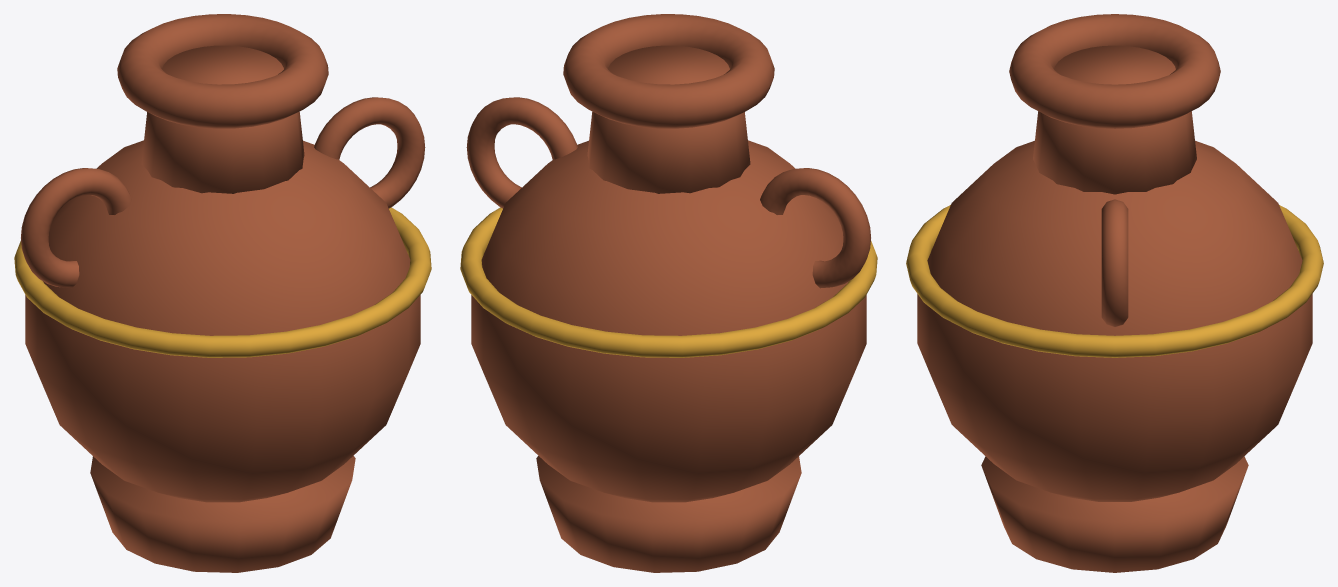
Rendered from urna.glb.
3 renders of one model, left to right at view 1: azimuth 30°, elevation 25°; view 2: azimuth 150°, elevation 25°; view 3: azimuth 270°, elevation 25°, orthographic.
Visible parts, largest first — view 1: urna; view 2: urna; view 3: urna.
Part boxes in pixels (x1,y1,x2,y2): urna: (14,14,431,572); urna: (460,14,877,572); urna: (906,14,1323,572).
Bounding box in the file's own units: 0.83 × 0.938 × 0.75.
